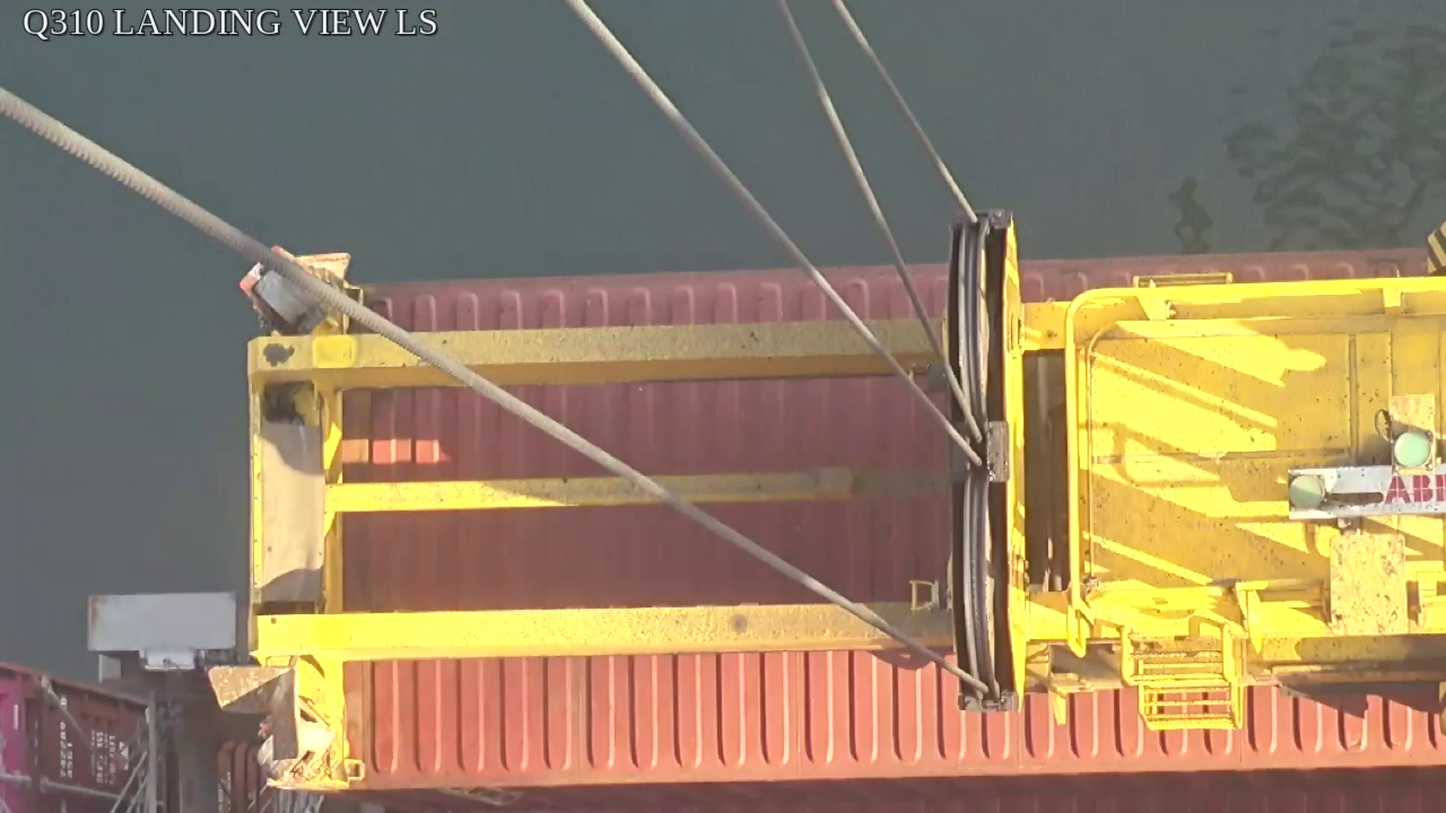left_gear: (928, 199, 1037, 719)
